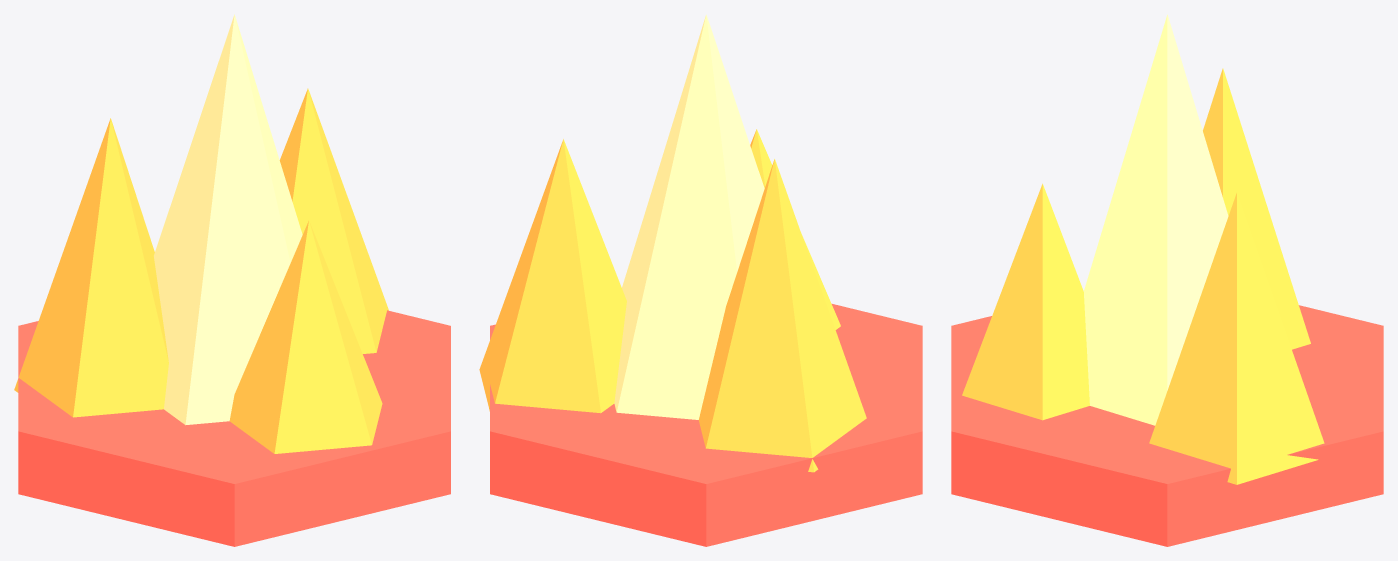
The model's file is ember.glb.
3 views of the same model, side by side, from view 1: azimuth 30°, elevation 25°; view 2: azimuth 150°, elevation 25°; view 3: azimuth 270°, elevation 25° (orthographic).
Parts seen in each view (by area): view 1: Coal; view 2: Coal; view 3: Coal.
Part boxes in pixels (left/top/right/bottom): Coal: left=14, top=14, right=450, bottom=546; Coal: left=479, top=14, right=922, bottom=546; Coal: left=951, top=14, right=1383, bottom=546.
Size of the model in its own units: 0.36 by 0.34 by 0.3118.
